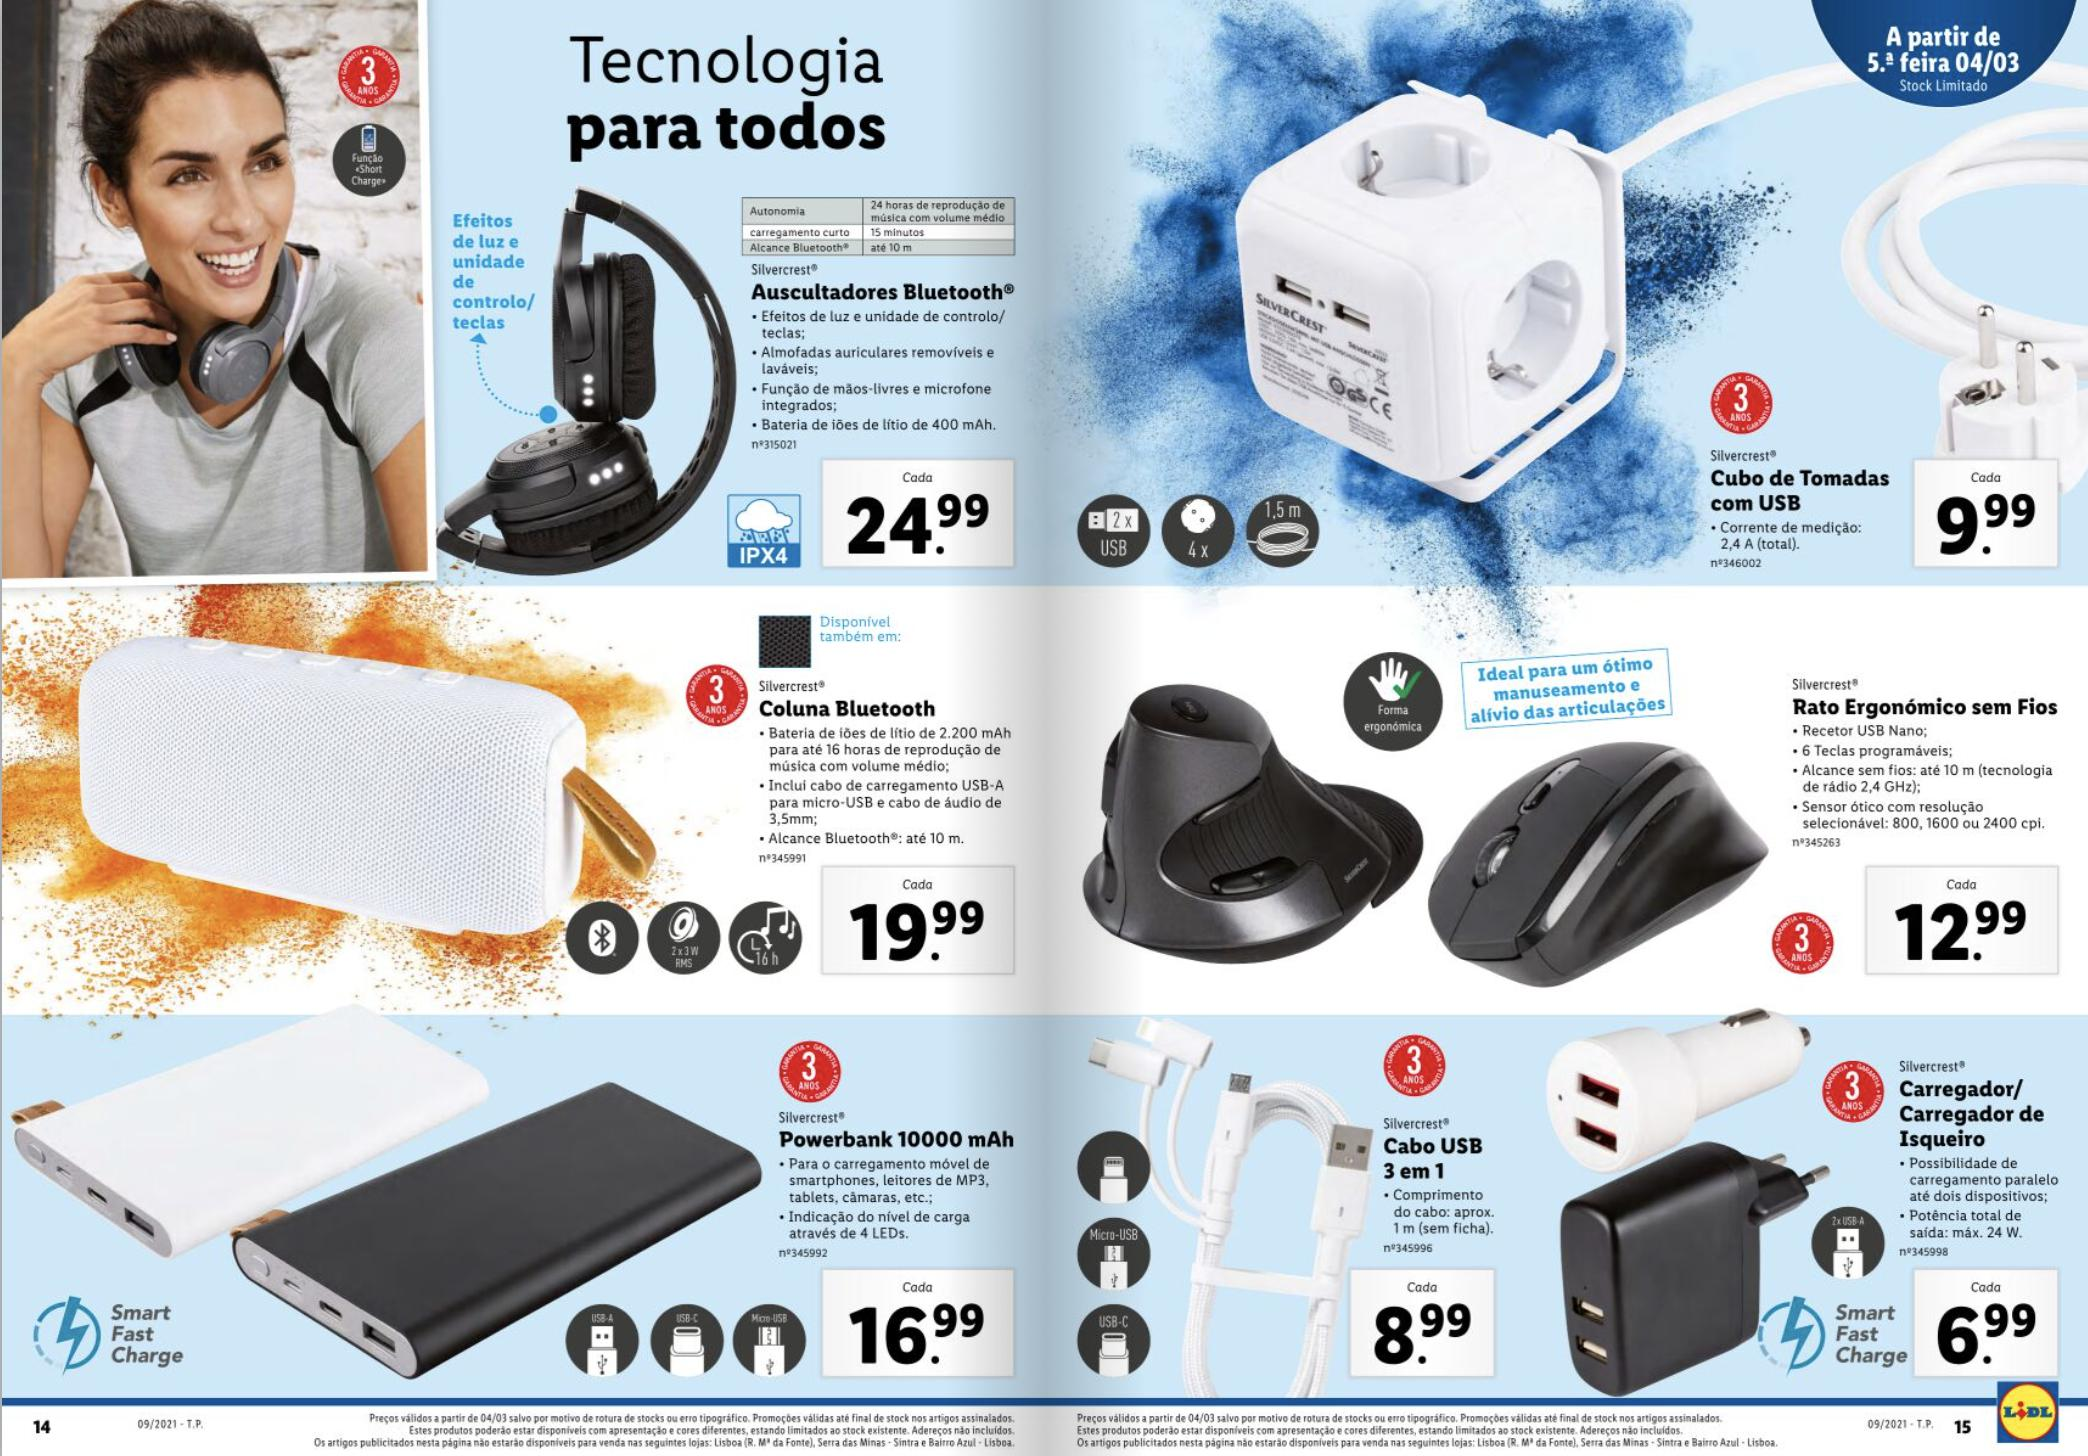name: (1901, 1074, 2059, 1153), (741, 276, 1023, 317), (1699, 465, 1894, 523), (779, 1120, 1030, 1164), (1782, 695, 2071, 723), (754, 692, 957, 730), (1372, 1136, 1491, 1185)
price: (838, 1291, 993, 1370), (844, 895, 1003, 971), (835, 489, 988, 561), (1888, 895, 2032, 971), (1933, 479, 2037, 558), (1929, 1297, 2047, 1367), (1369, 1297, 1476, 1370)
product: (1047, 59, 2074, 582), (1047, 611, 2082, 1010), (35, 595, 1027, 1002), (3, 1033, 1044, 1405), (435, 17, 1017, 576), (1526, 998, 2085, 1388), (1066, 1023, 1526, 1388)
